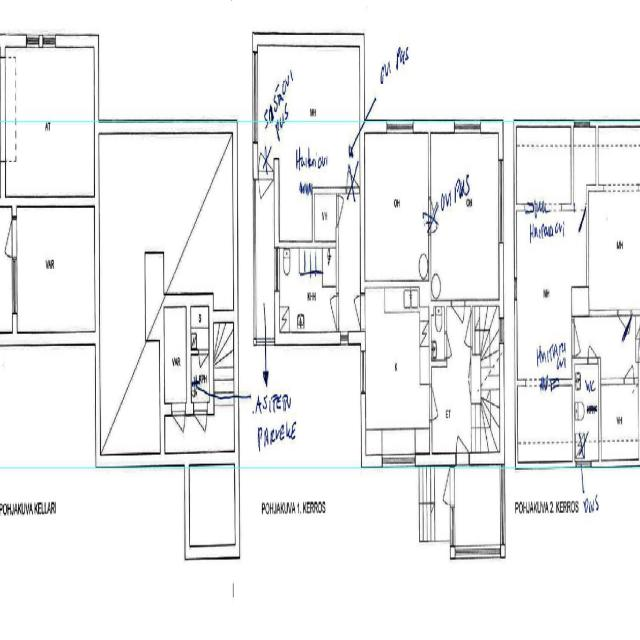door: (258, 170, 273, 218), (436, 468, 455, 504), (0, 218, 17, 256), (347, 295, 365, 328), (456, 420, 469, 465), (172, 402, 184, 450), (194, 402, 206, 450), (572, 320, 588, 355), (618, 309, 631, 349), (452, 300, 464, 341), (430, 386, 444, 420), (324, 296, 338, 329), (458, 314, 472, 347), (574, 203, 585, 240), (336, 196, 350, 224), (624, 354, 634, 385), (444, 333, 456, 357), (588, 332, 597, 364), (199, 350, 208, 380)
